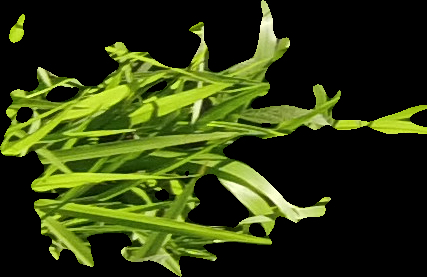grass: (1, 1, 426, 275)
